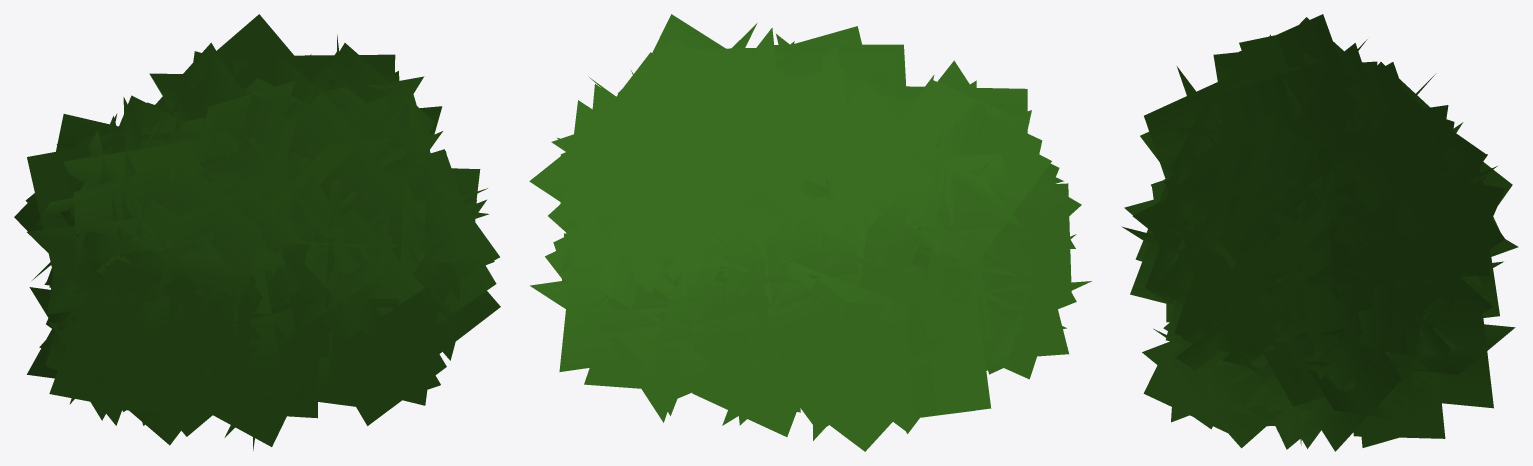
The model's file is SM_bush_01.fbx.
The picture shows the model from 3 angles, left to right: view 1: azimuth 30°, elevation 25°; view 2: azimuth 150°, elevation 25°; view 3: azimuth 270°, elevation 25°; orthographic projection. The views are drawn at different scales.
Visible parts, largest first — view 1: bush_01; view 2: bush_01; view 3: bush_01.
Part boxes in pixels (bbox=[...]): bush_01: bbox=[14, 14, 500, 450]; bush_01: bbox=[529, 14, 1091, 451]; bush_01: bbox=[1121, 14, 1518, 451].
Size of the model in its own units: 1083 by 826 by 839.
